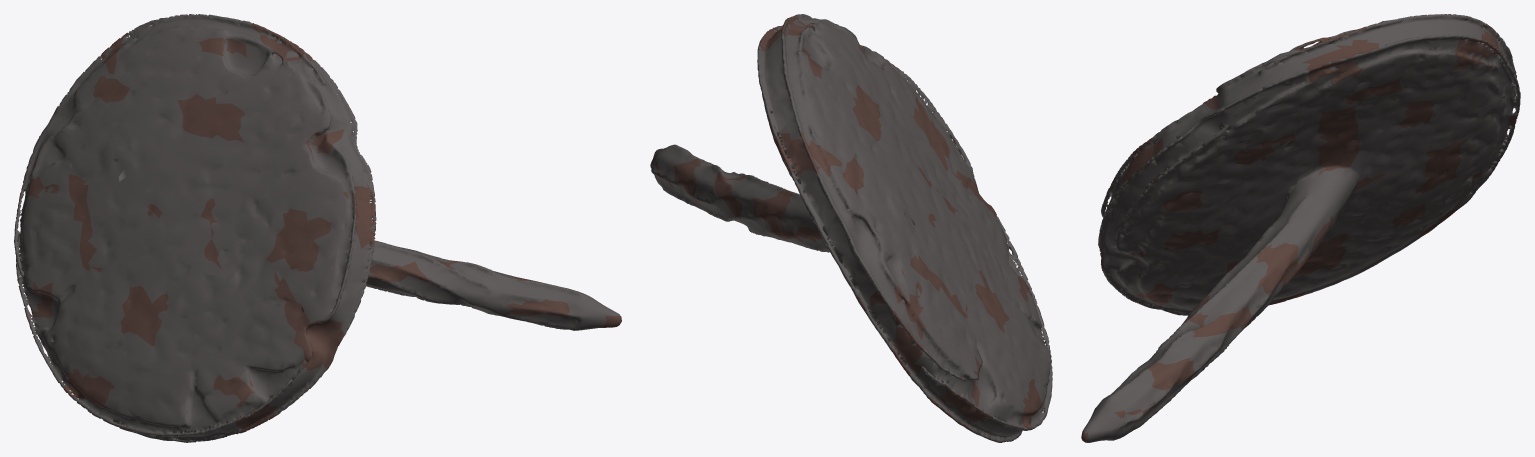
The model's file is chincheta_doblada_pintado.fbx.
3 views of the same model, side by side, from view 1: azimuth 30°, elevation 25°; view 2: azimuth 150°, elevation 25°; view 3: azimuth 270°, elevation 25° (orthographic). The views are drawn at different scales.
Parts seen in each view (by area): view 1: tmptwz8wt4j.ply; view 2: tmptwz8wt4j.ply; view 3: tmptwz8wt4j.ply.
Part boxes in pixels (bbox=[...]): tmptwz8wt4j.ply: bbox=[14, 14, 621, 442]; tmptwz8wt4j.ply: bbox=[650, 14, 1052, 442]; tmptwz8wt4j.ply: bbox=[1081, 14, 1520, 442].
Bounding box in the file's own units: 199 × 145 × 157.
